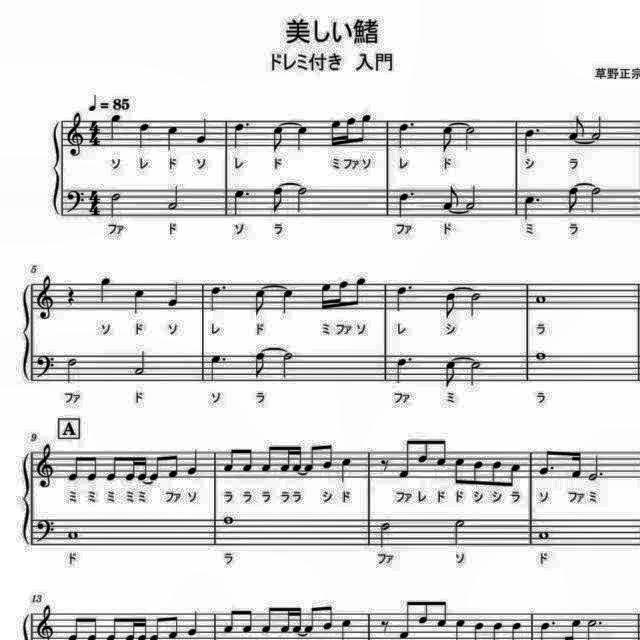Bass-clef: (34, 351, 58, 381), (33, 514, 56, 544), (65, 187, 87, 217)
Eighth-note: (398, 436, 414, 484), (398, 596, 414, 640), (258, 600, 276, 636), (221, 602, 239, 638), (536, 446, 556, 478), (250, 286, 270, 318), (565, 116, 587, 144), (441, 184, 463, 212), (220, 445, 240, 475), (440, 124, 458, 156), (352, 274, 368, 310), (436, 597, 452, 631), (443, 289, 461, 319), (444, 358, 461, 389), (84, 454, 100, 486), (104, 452, 120, 484), (320, 440, 336, 472), (320, 602, 336, 634), (452, 454, 468, 486), (260, 442, 276, 474), (564, 184, 580, 216), (66, 450, 82, 482), (252, 348, 268, 380), (240, 602, 254, 638), (488, 457, 504, 488), (416, 437, 432, 468), (468, 457, 484, 487), (240, 445, 256, 475), (166, 450, 182, 480), (508, 460, 524, 490), (148, 452, 164, 482), (270, 124, 286, 154), (270, 187, 286, 217), (436, 435, 450, 469), (358, 114, 372, 146), (304, 442, 318, 474), (306, 606, 318, 638), (418, 596, 430, 626)
Eighth-rest: (378, 616, 392, 636), (378, 455, 392, 473)
Full-note: (531, 290, 549, 306), (64, 528, 82, 542), (536, 528, 552, 542), (532, 350, 548, 362), (221, 514, 235, 526)
Half-dot: (586, 451, 606, 483)
Half-note: (377, 518, 395, 550), (449, 519, 467, 551), (132, 347, 150, 377), (165, 183, 183, 213), (293, 184, 309, 216), (64, 354, 80, 386), (107, 187, 123, 219), (461, 126, 479, 154), (280, 349, 296, 379), (588, 186, 604, 216), (466, 359, 482, 388), (462, 184, 478, 212), (590, 114, 606, 142), (466, 290, 482, 318)
Quarter-dot: (394, 352, 418, 386), (394, 280, 418, 314), (207, 282, 230, 316), (393, 119, 417, 151), (394, 189, 418, 221), (230, 118, 252, 152), (520, 192, 544, 222), (229, 188, 251, 220), (521, 125, 543, 155), (208, 352, 228, 384)
Quarter-note: (278, 286, 298, 316), (135, 120, 153, 152), (192, 116, 210, 148), (97, 274, 115, 306), (184, 606, 202, 638), (131, 286, 149, 318), (292, 124, 310, 154), (165, 278, 183, 308), (107, 114, 123, 146), (163, 123, 180, 153), (184, 447, 200, 478), (339, 453, 355, 483)
Quarter-rest: (64, 282, 78, 306)
Sixteenth-note: (317, 278, 333, 314), (333, 276, 351, 308), (568, 448, 584, 480), (326, 118, 342, 150), (278, 443, 294, 475), (342, 114, 358, 146), (124, 452, 140, 482), (280, 604, 294, 636), (289, 444, 303, 476), (135, 452, 149, 484), (290, 603, 302, 635)
Treble-clef: (32, 438, 56, 489), (33, 272, 56, 324), (64, 109, 86, 159)
